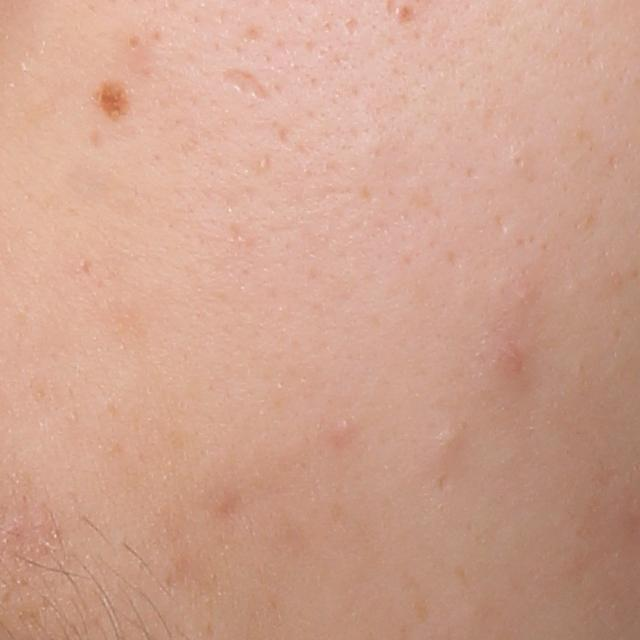atrophic_scar: (219, 68, 270, 104)
comedo: (432, 422, 467, 455), (117, 28, 148, 54), (510, 147, 532, 173)
nevus: (96, 79, 134, 123)
